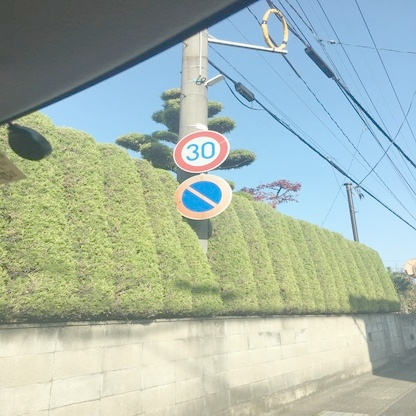Prohibition_sign: (173, 173, 231, 217)
Speed_sign: (170, 129, 232, 171)
